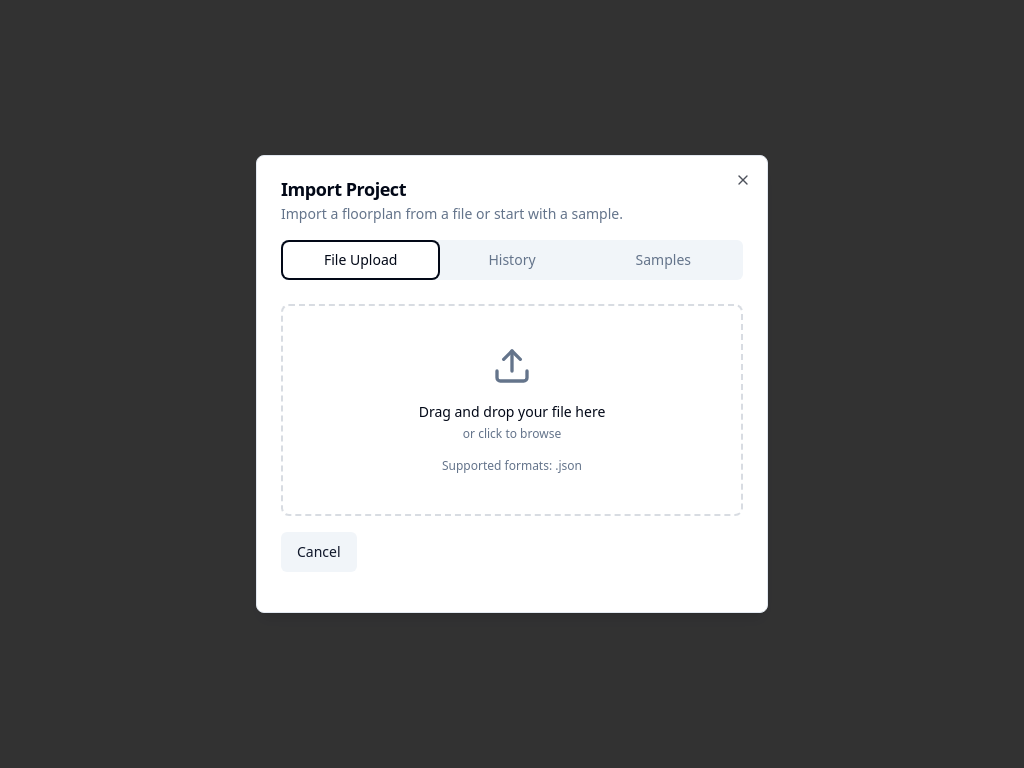
ImportDialog › displays history tabs
The image size is (1024, 768).
Click the tab "History": [512, 260] box [436, 244, 588, 276]
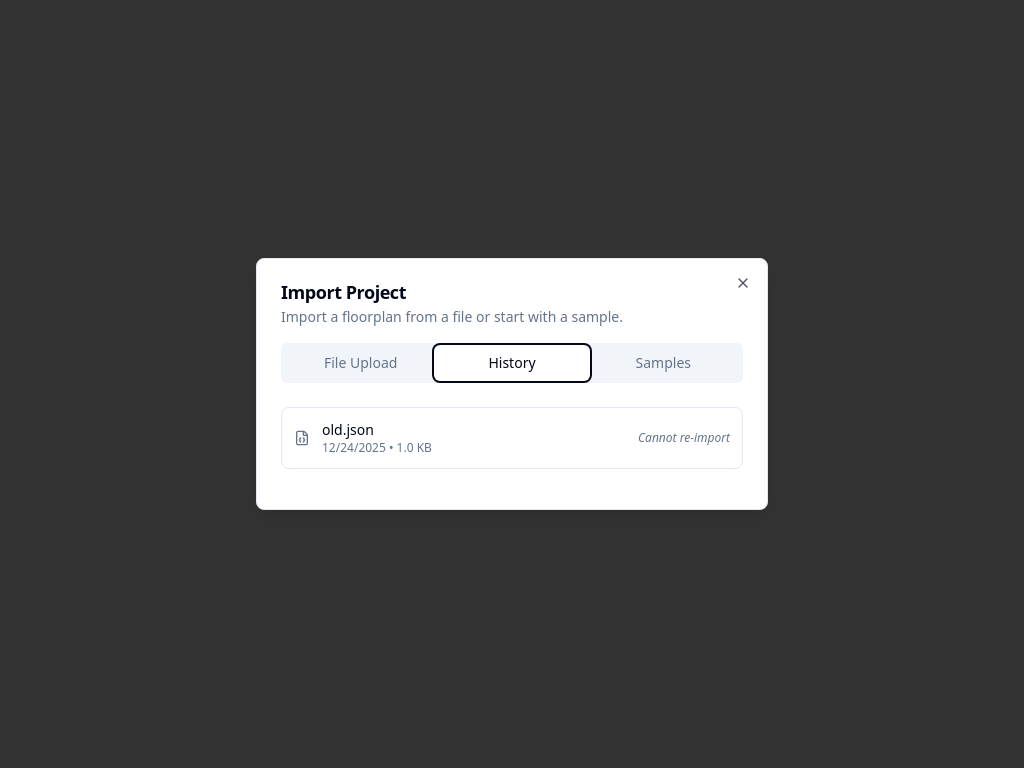
Check: the text "old.json" is shown, box [322, 420, 374, 439]
